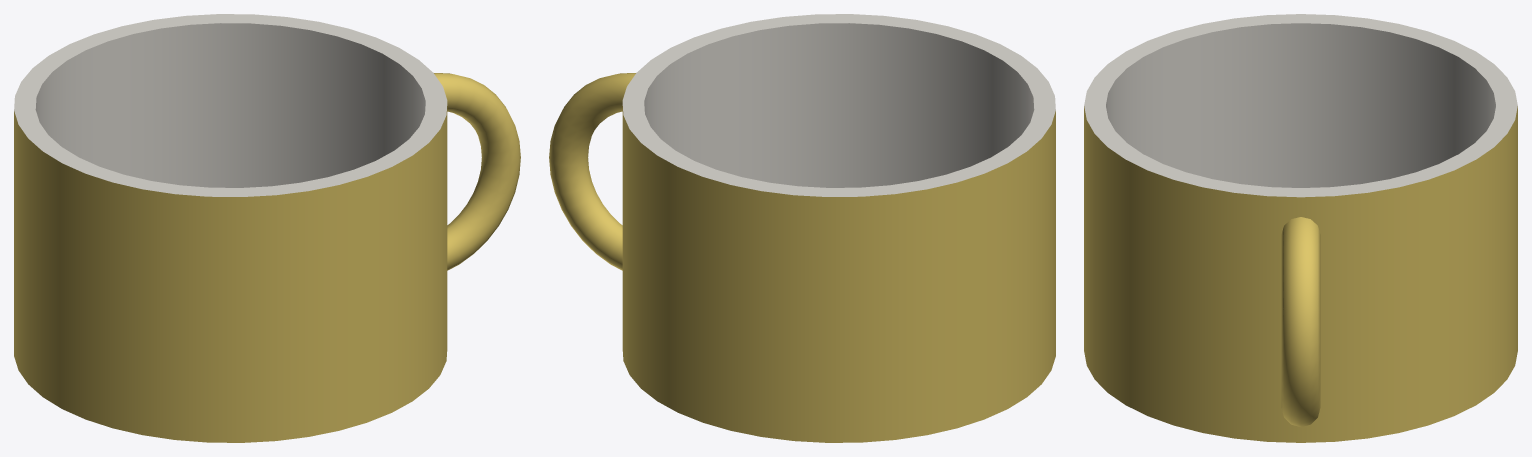
The picture shows the model from 3 angles, left to right: view 1: azimuth 30°, elevation 25°; view 2: azimuth 150°, elevation 25°; view 3: azimuth 270°, elevation 25°; orthographic projection.
Parts seen in each view (by area): view 1: mug; view 2: mug; view 3: mug.
Boxes of the visible parts, bbox=[...] form: mug: bbox=[14, 14, 520, 442]; mug: bbox=[549, 14, 1055, 442]; mug: bbox=[1084, 14, 1517, 442].
Bounding box in the file's own units: 2.53 × 1.25 × 2.
